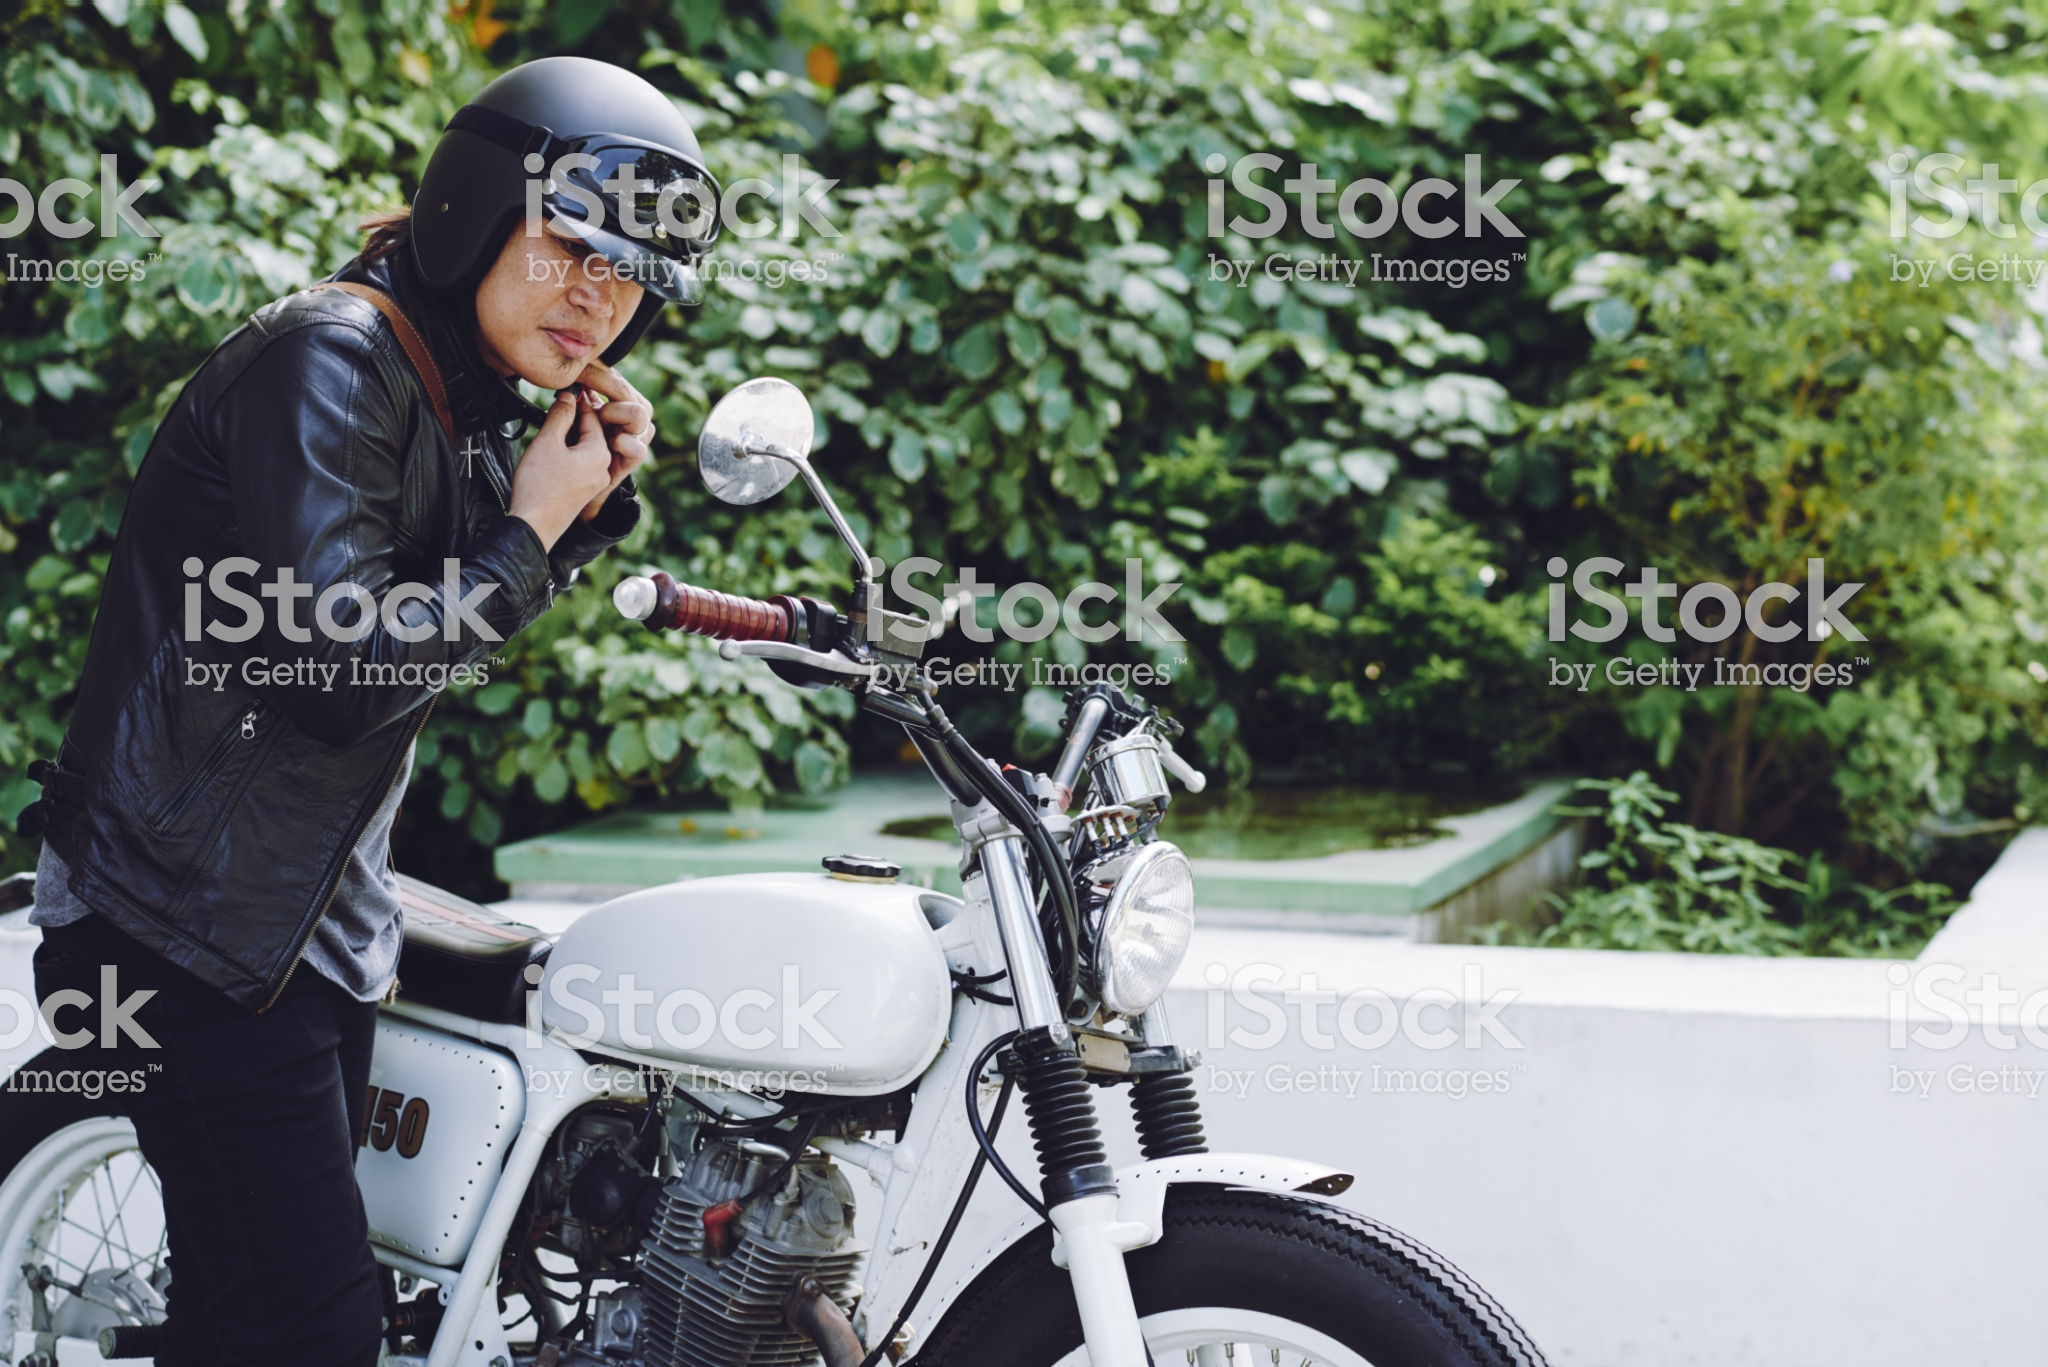helmet: (381, 70, 695, 305)
